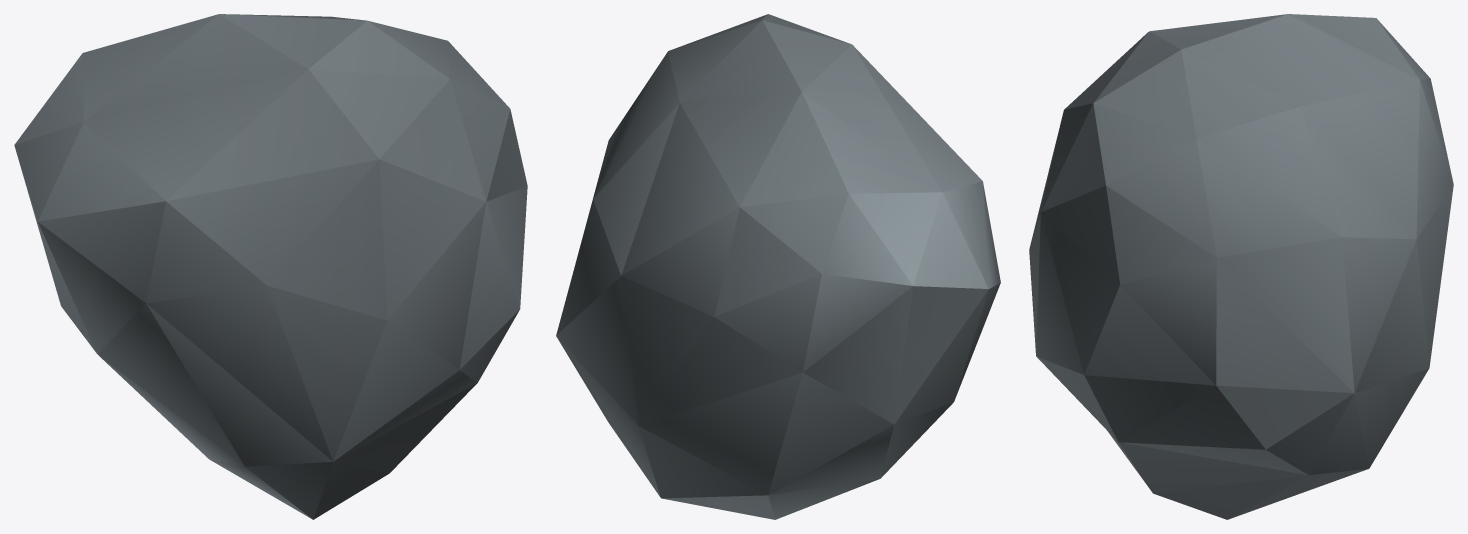
The model's file is kf_rock_3_d.fbx.
3 renders of one model, left to right at view 1: azimuth 30°, elevation 25°; view 2: azimuth 150°, elevation 25°; view 3: azimuth 270°, elevation 25°, orthographic.
Visible parts, largest first — view 1: kf_rock_3_d; view 2: kf_rock_3_d; view 3: kf_rock_3_d.
Part boxes in pixels (x1,y1,x2,y2): kf_rock_3_d: [14, 14, 527, 519]; kf_rock_3_d: [556, 14, 1000, 519]; kf_rock_3_d: [1029, 14, 1453, 519].
Size of the model in its own units: 2.24 by 2.33 by 1.91.
1 material, 1 textured.
